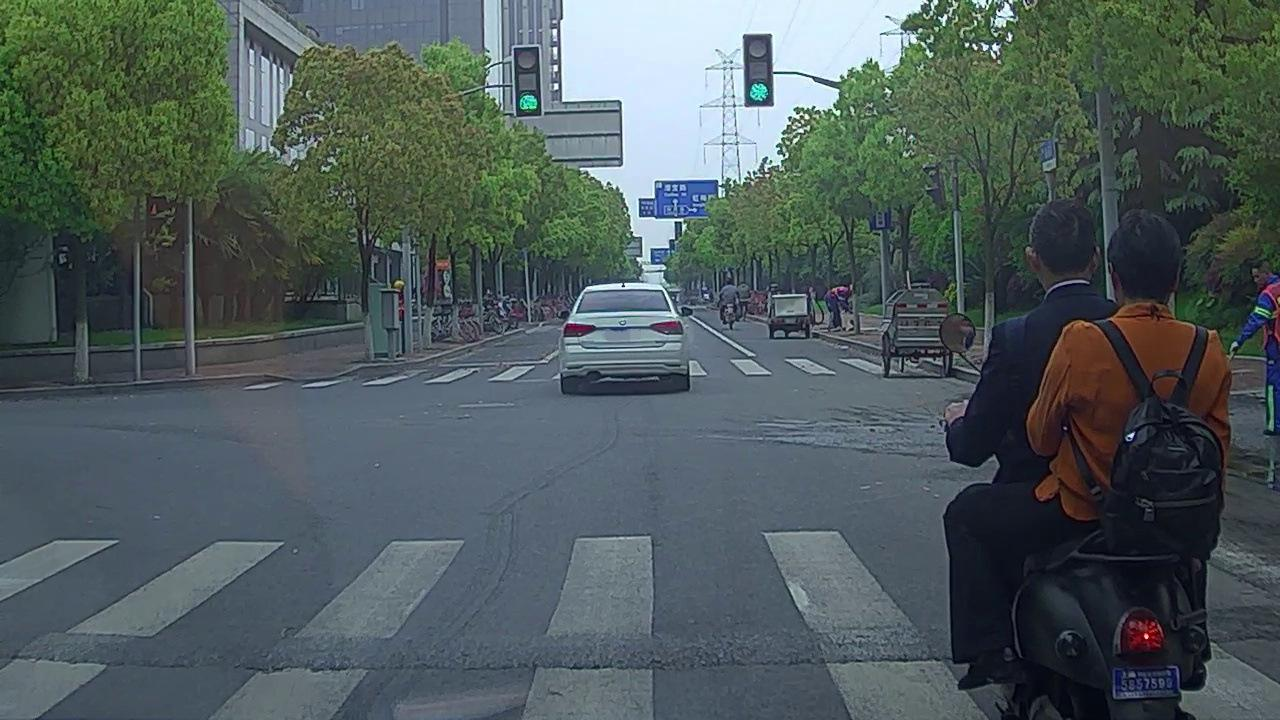traffic_light: (745, 34, 773, 107), (515, 48, 541, 117)
